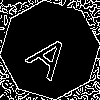A: (25, 25, 80, 82)
